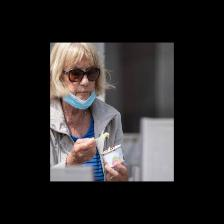mask_weared_incorrect: (67, 66, 100, 107)
